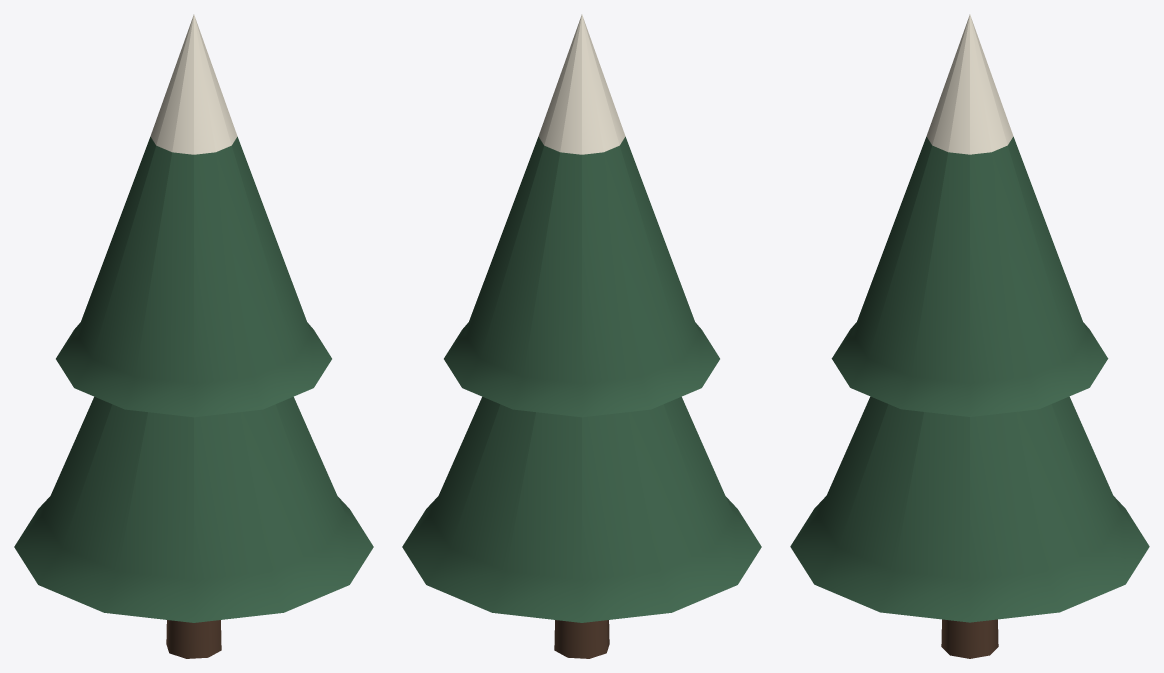
File: snowy_fir.fbx
3 renders of one model, left to right at view 1: azimuth 30°, elevation 25°; view 2: azimuth 150°, elevation 25°; view 3: azimuth 270°, elevation 25°, orthographic.
Parts seen in each view (by area): view 1: snowy_fir; view 2: snowy_fir; view 3: snowy_fir.
Boxes of the visible parts, x1,y1,x2,y2 form: snowy_fir: [14, 14, 373, 658]; snowy_fir: [402, 14, 761, 658]; snowy_fir: [790, 14, 1149, 658].
Size of the model in its own units: 0.3147 by 0.6112 by 0.3147.
